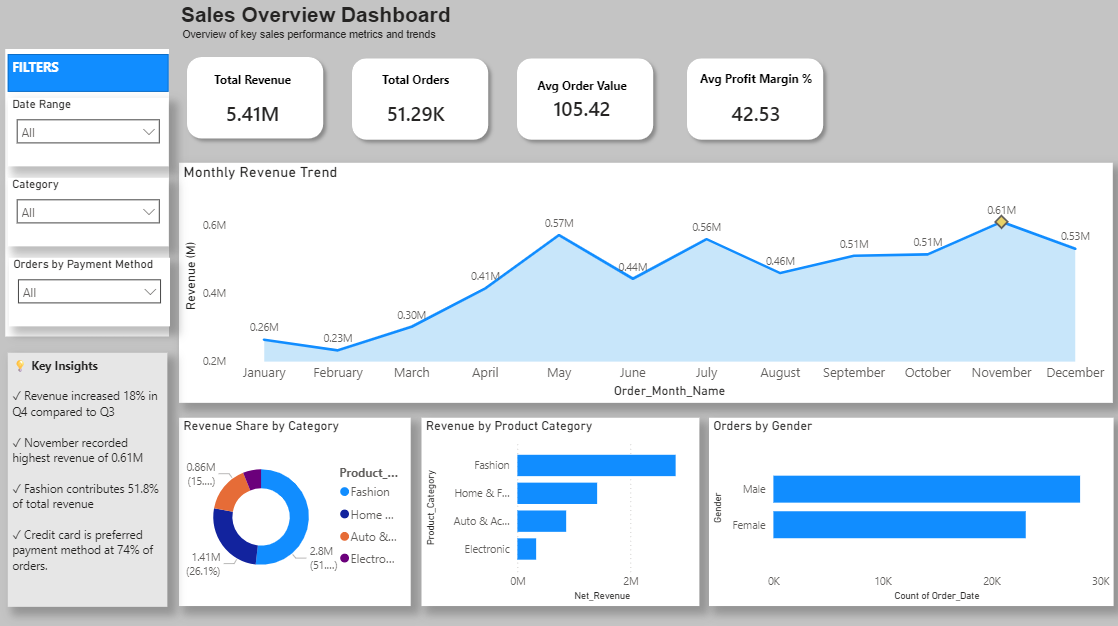

The page's visual inventory and layout, read from the dashboard file:
{"tool":"powerbi","page":{"name":"Sale_Overview","canvas":[1280,720],"ordinal":0},"visuals":[{"type":"shape","box":[6.9,57.3,187.1,328.6],"z":0,"group":"g2"},{"type":"lineChart","title":"Monthly Revenue Trend","fields":{"Category":["Orders.Order_Month_Name"],"Y":["Sum(Orders.Net_Revenue)"]},"box":[205.7,187.1,1067.1,274.3],"z":0},{"type":"textbox","title":"Overview of key sales performance metrics and trends","box":[202.9,4.7,327.1,35.7],"z":1000,"group":"g1"},{"type":"shape","box":[9.6,63.2,183.8,43.2],"z":1000,"group":"g2"},{"type":"donutChart","title":"Revenue Share by Category","fields":{"Category":["Orders.Product_Category"],"Y":["Sum(Orders.Net_Revenue)"]},"box":[206.2,478.8,265,215],"z":1000},{"type":"clusteredBarChart","title":"Revenue by Product Category","fields":{"Category":["Orders.Product_Category"],"Y":["Sum(Orders.Net_Revenue)"]},"box":[482.5,478.8,317.5,215],"z":2000},{"type":"clusteredBarChart","title":"Orders by Gender","fields":{"Category":["Orders.Gender"],"Y":["CountNonNull(Orders.Order_Date)"]},"box":[811.2,478.8,462.5,215],"z":3000},{"type":"shape","box":[206.2,57.5,173.8,111.2],"z":4000},{"type":"cardVisual","title":"Total Revenue","fields":{"Data":["Sum(Orders.Net_Revenue)"]},"box":[217.5,66.2,153.8,96.2],"z":5000},{"type":"shape","box":[393.8,58.8,173.8,111.2],"z":6000},{"type":"cardVisual","title":"Total Orders","fields":{"Data":["CountNonNull(Orders.Order_Date)"]},"box":[407.5,66.2,146.2,96.2],"z":7000},{"type":"shape","box":[582.5,58.8,173.8,111.2],"z":8000},{"type":"cardVisual","fields":{"Data":["Orders.AOV"]},"box":[593.8,68.8,152.5,92.5],"z":9000},{"type":"group","id":"g1","title":"Group 2","box":[202.9,4.7,354.3,55.7],"z":10000},{"type":"group","id":"g2","title":"Group 4","box":[6.9,57.3,187.7,328.6],"z":11000},{"type":"shape","box":[777.1,58.6,173.8,111.2],"z":11000,"group":"g3"},{"type":"cardVisual","title":"Avg Profit Margin %","fields":{"Data":["Avg(Orders.Profit_Margin_Pct)"]},"box":[777.1,62.9,184.3,102.9],"z":12000,"group":"g3"},{"type":"textbox","title":"Overview of key sales performance metrics and trends","box":[204.3,30.4,352.9,30],"z":12002,"group":"g1"},{"type":"textbox","box":[9.6,63.2,83.8,41.8],"z":13000,"group":"g2"},{"type":"slicer","title":"Date Range","fields":{"Values":["Orders.Order_Date.Variation.Date Hierarchy.Month"]},"box":[9.6,113.4,183.8,78.1],"z":14000,"group":"g2"},{"type":"textbox","box":[10,403.8,182.5,290],"z":14000},{"type":"group","id":"g3","title":"Group 1","box":[777.1,58.6,184.3,111.2],"z":15000},{"type":"slicer","title":"Category","fields":{"Values":["Orders.Product_Category"]},"box":[9.6,204,183.8,78.1],"z":15000,"group":"g2"},{"type":"slicer","title":"Orders by Payment Method","fields":{"Values":["Orders.Payment_method"]},"box":[10.9,296,183.8,78.1],"z":16000,"group":"g2"}]}

Visuals, with their boxes in screenshot pixels (x1, y1, x2, y2), scaled from the page's 1280x720 canvas onto the 1118x626 screenshot:
shape: left=6, top=50, right=169, bottom=336
"Monthly Revenue Trend" lineChart: left=180, top=163, right=1112, bottom=401
"Overview of key sales performance metrics and trends" textbox: left=177, top=4, right=463, bottom=35
shape: left=8, top=55, right=169, bottom=93
"Revenue Share by Category" donutChart: left=180, top=416, right=412, bottom=603
"Revenue by Product Category" clusteredBarChart: left=421, top=416, right=699, bottom=603
"Orders by Gender" clusteredBarChart: left=709, top=416, right=1112, bottom=603
shape: left=180, top=50, right=332, bottom=147
"Total Revenue" cardVisual: left=190, top=58, right=324, bottom=141
shape: left=344, top=51, right=496, bottom=148
"Total Orders" cardVisual: left=356, top=58, right=484, bottom=141
shape: left=509, top=51, right=661, bottom=148
cardVisual - Orders.AOV: left=519, top=60, right=652, bottom=140
"Group 2" group: left=177, top=4, right=487, bottom=53
"Group 4" group: left=6, top=50, right=170, bottom=336
shape: left=679, top=51, right=831, bottom=148
"Avg Profit Margin %" cardVisual: left=679, top=55, right=840, bottom=144
"Overview of key sales performance metrics and trends" textbox: left=178, top=26, right=487, bottom=53
textbox: left=8, top=55, right=82, bottom=91
"Date Range" slicer: left=8, top=99, right=169, bottom=166
textbox: left=9, top=351, right=168, bottom=603
"Group 1" group: left=679, top=51, right=840, bottom=148
"Category" slicer: left=8, top=177, right=169, bottom=245
"Orders by Payment Method" slicer: left=10, top=257, right=170, bottom=325
